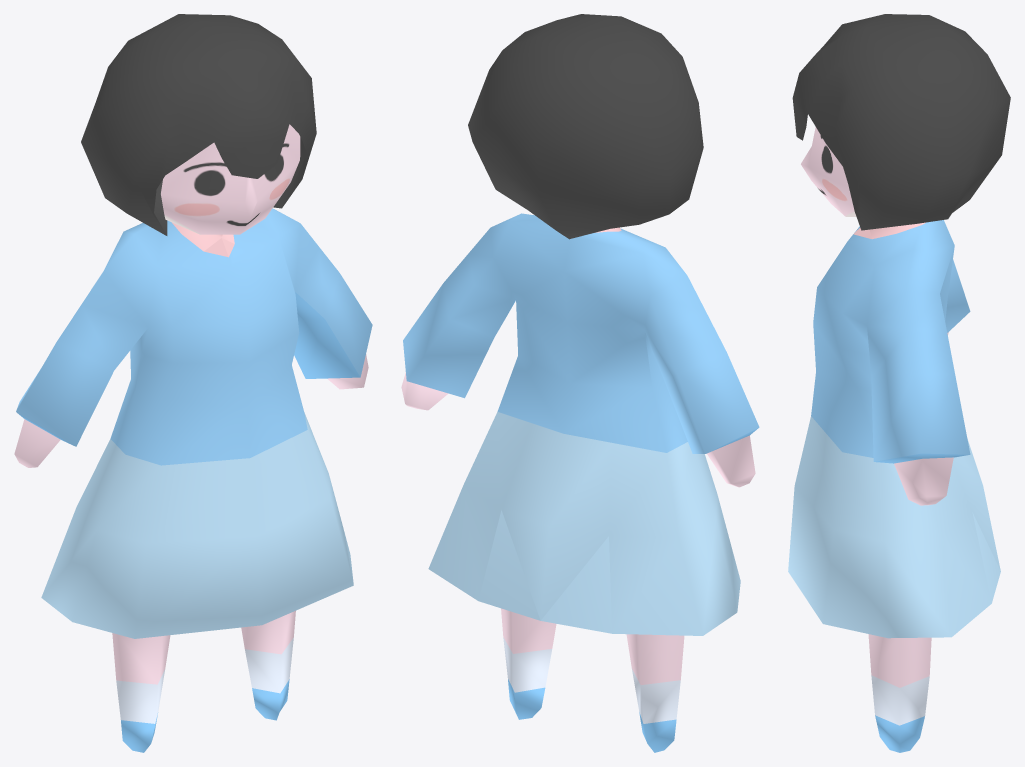
Rendered from heyin.glb.
3 views of the same model, side by side, from view 1: azimuth 30°, elevation 25°; view 2: azimuth 150°, elevation 25°; view 3: azimuth 270°, elevation 25° (orthographic).
Visible parts, largest first — view 1: jun psx, jun psx.002; view 2: jun psx, jun psx.002; view 3: jun psx, jun psx.002.
Part boxes in pixels (bbox=[...]): jun psx: bbox=[14, 124, 372, 752]; jun psx.002: bbox=[81, 14, 316, 235]; jun psx: bbox=[401, 213, 759, 752]; jun psx.002: bbox=[468, 14, 703, 239]; jun psx: bbox=[788, 127, 1000, 752]; jun psx.002: bbox=[792, 14, 1010, 230].
Size of the model in its own units: 1.08 by 2.04 by 0.5971.
2 materials, 2 textured.
